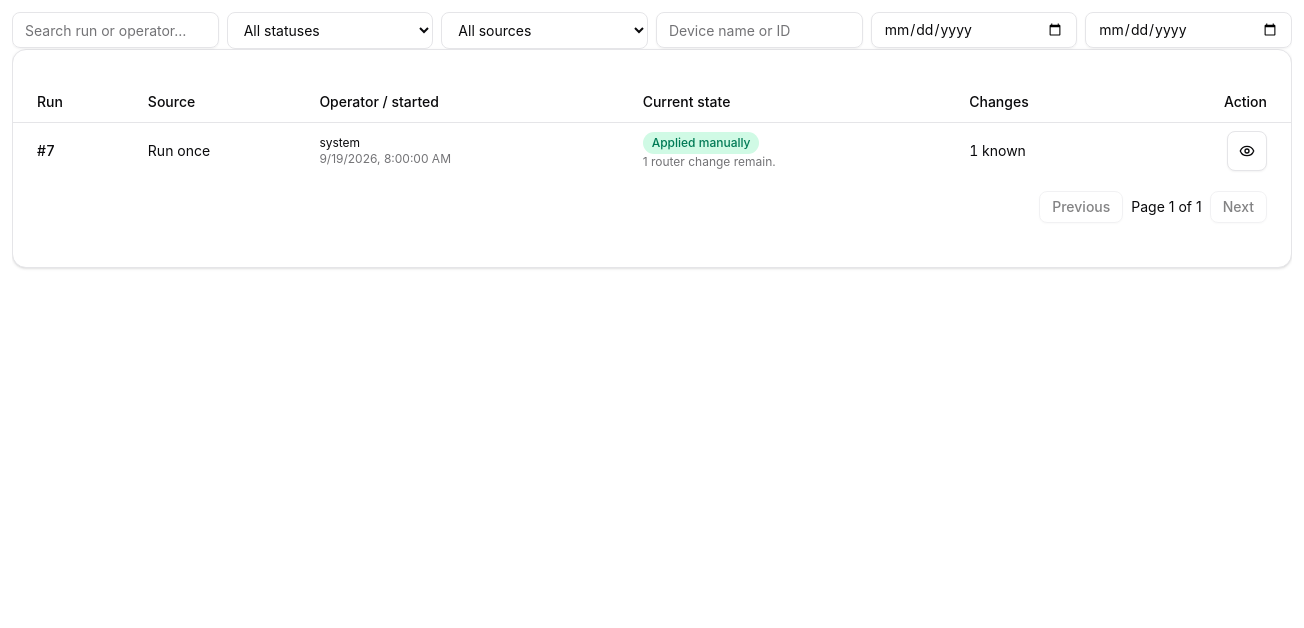
Test: retains selected evidence and warns when its independent refresh fails
Click the button named "Review run 7": (1247, 150) x1=1227 y1=130 x2=1267 y2=170
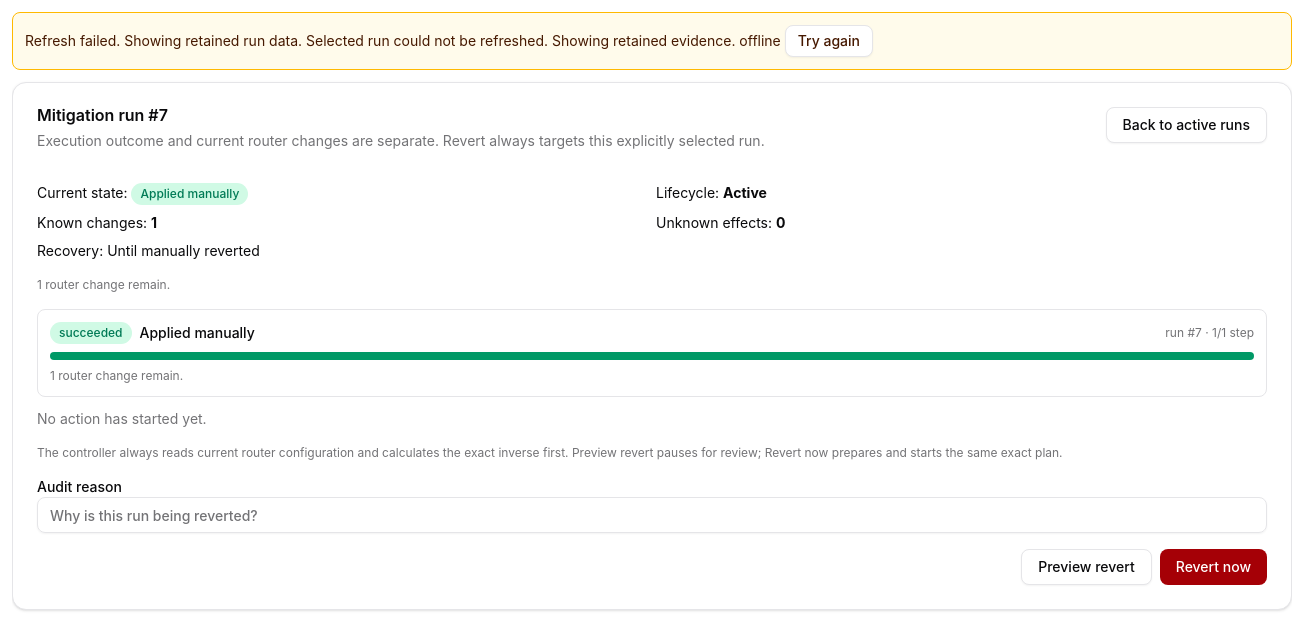
Expected: the text "Selected run could not be refreshed" is shown, x1=306 y1=32 x2=781 y2=49
Expected: the heading "Mitigation run #7" is shown, x1=37 y1=105 x2=168 y2=125
